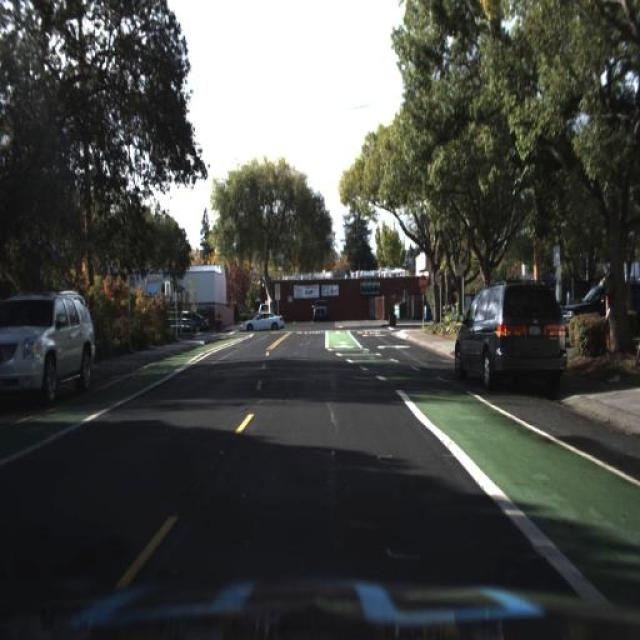car: (447, 273, 569, 392), (0, 281, 94, 409), (238, 308, 287, 333), (170, 305, 210, 334), (240, 309, 282, 332), (180, 307, 209, 338), (312, 294, 333, 327), (315, 290, 336, 316)
